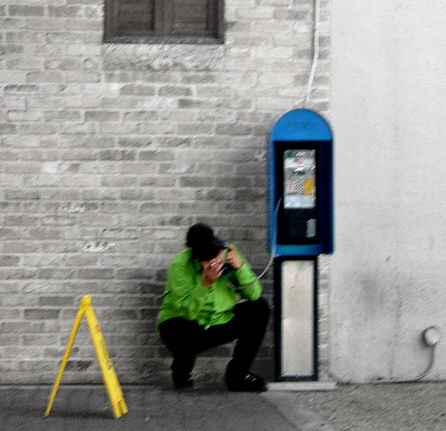person: (156, 225, 273, 392)
